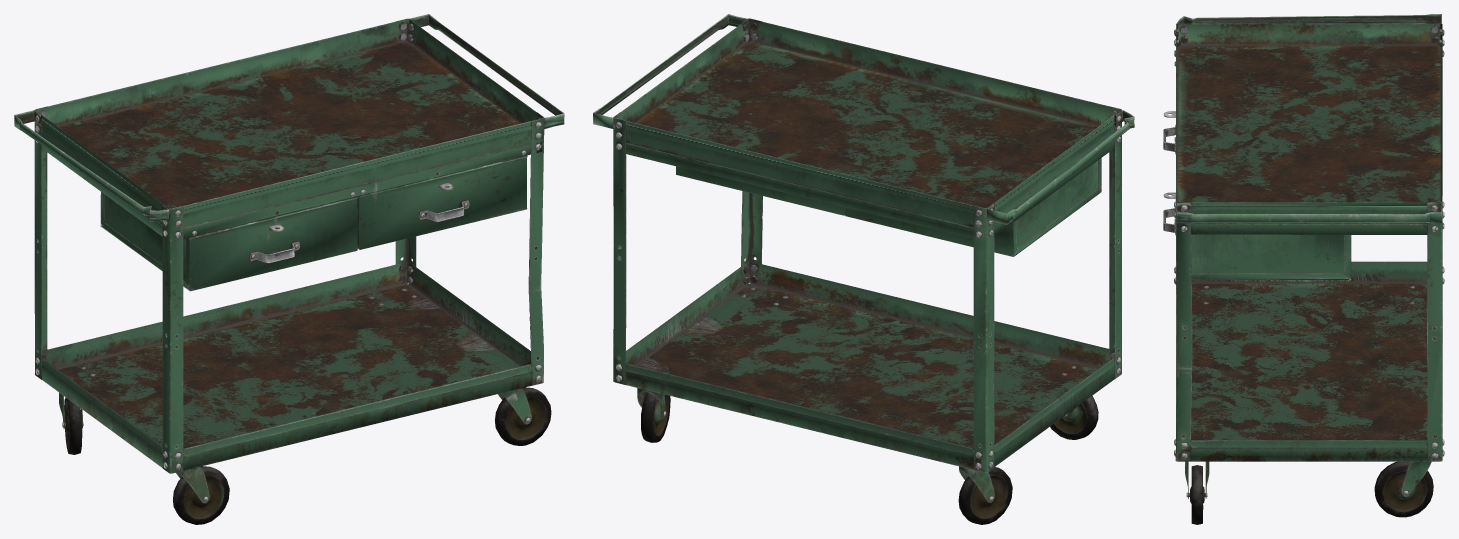
3 views of the same model, side by side, from view 1: azimuth 30°, elevation 25°; view 2: azimuth 150°, elevation 25°; view 3: azimuth 270°, elevation 25° (orthographic). The views are drawn at different scales.
Visible parts, largest first — view 1: tool_cart; view 2: tool_cart; view 3: tool_cart.
Boxes of the visible parts, left/top/right/bottom form: tool_cart: left=14, top=14, right=564, bottom=524; tool_cart: left=593, top=14, right=1134, bottom=524; tool_cart: left=1163, top=14, right=1444, bottom=524.
Size of the model in its own units: 1.27 by 0.9653 by 0.7541.
Materials: 1 (1 with a texture image).
